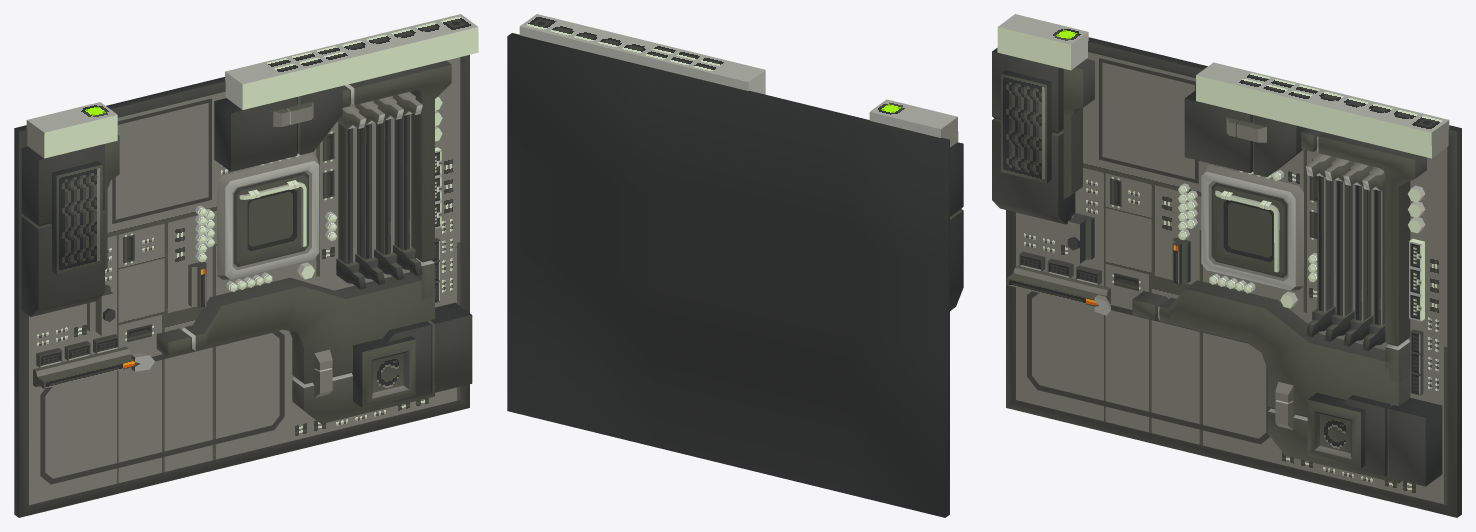
The model's file is motherboard.glb.
The picture shows the model from 3 angles, left to right: view 1: azimuth 30°, elevation 25°; view 2: azimuth 150°, elevation 25°; view 3: azimuth 330°, elevation 25°; orthographic projection. The views are drawn at different scales.
Visible parts, largest first — view 1: Plane.050; view 2: Plane.050; view 3: Plane.050.
Boxes of the visible parts, <box> form: Plane.050: <box>14,14,478,517</box>; Plane.050: <box>507,14,963,517</box>; Plane.050: <box>992,14,1461,517</box>.
Size of the model in its own units: 0.5752 by 0.4821 by 0.0597.
1 material, 1 textured.
